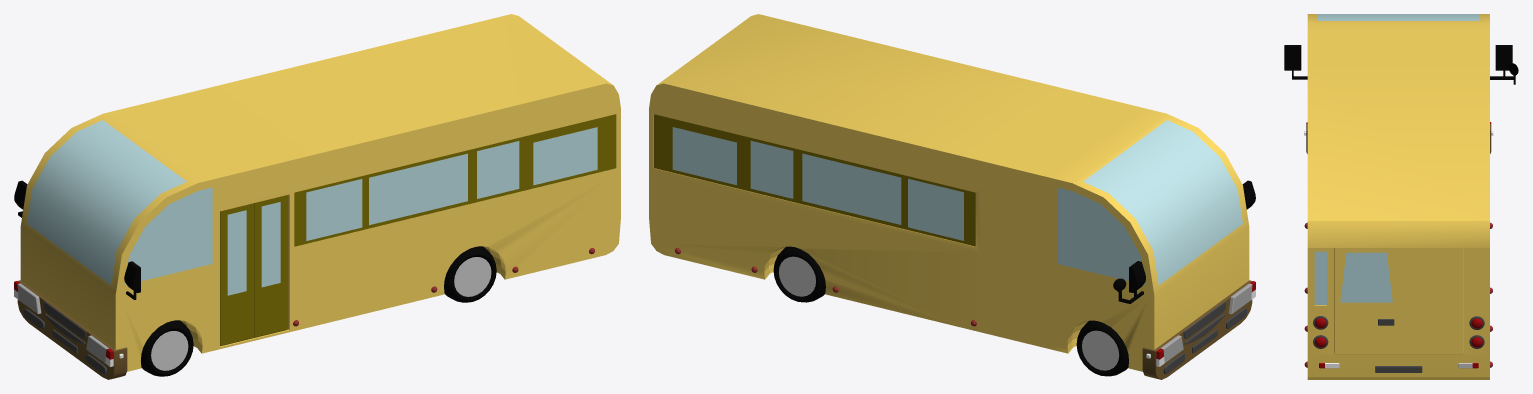
Rendered from BusTexture1.fbx.
3 views of the same model, side by side, from view 1: azimuth 30°, elevation 25°; view 2: azimuth 150°, elevation 25°; view 3: azimuth 270°, elevation 25° (orthographic). The views are drawn at different scales.
Parts seen in each view (by area): view 1: Bus, Cube.002, Door, Torus, Torus.001, Cube.006; view 2: Bus, Cube.004, Torus.001, Torus, Cube.006, Cube.019; view 3: Bus, Cube.005, Cube.019, Cube.018, Cube.013.
Part boxes in pixels (<box>): Bus: <box>20,14,620,371</box>; Cube.002: <box>294,114,616,246</box>; Door: <box>220,195,287,346</box>; Torus: <box>141,320,193,376</box>; Torus.001: <box>444,246,496,302</box>; Cube.006: <box>17,280,127,379</box>; Bus: <box>649,14,1249,371</box>; Cube.004: <box>654,114,975,246</box>; Torus.001: <box>773,246,825,302</box>; Torus: <box>1076,320,1128,376</box>; Cube.006: <box>1142,280,1252,379</box>; Cube.019: <box>1113,261,1145,303</box>; Bus: <box>1307,14,1489,379</box>; Cube.005: <box>1334,248,1463,354</box>; Cube.019: <box>1490,45,1518,84</box>; Cube.018: <box>1284,45,1307,79</box>; Cube.013: <box>1375,366,1422,372</box>.
Size of the model in its own units: 1051 by 373 by 431.
